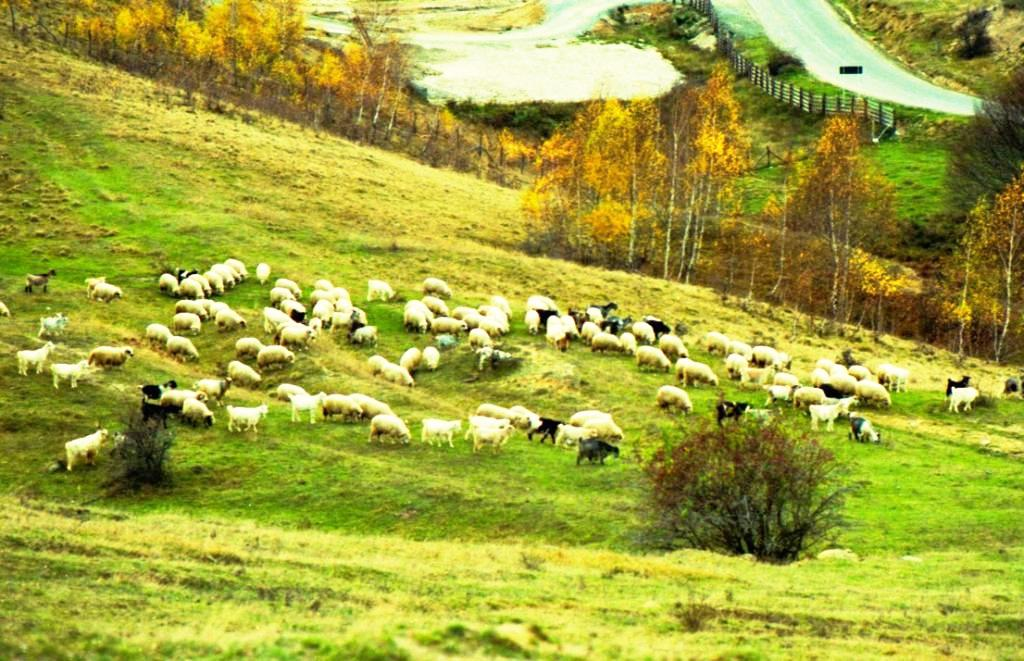Sheep: (60, 428, 112, 468), (368, 414, 414, 446), (49, 359, 92, 391), (226, 403, 269, 435), (16, 341, 54, 377), (470, 423, 517, 452), (285, 390, 325, 424), (158, 388, 208, 415), (577, 417, 623, 446), (420, 418, 463, 449), (675, 357, 716, 389), (321, 394, 364, 423), (86, 345, 133, 371), (655, 384, 692, 416), (353, 395, 397, 421), (853, 380, 891, 410), (375, 361, 414, 389), (257, 345, 296, 373), (180, 397, 215, 428), (193, 377, 231, 405), (227, 360, 262, 390), (636, 346, 671, 375), (876, 363, 911, 392), (946, 385, 979, 413), (166, 336, 200, 363), (37, 312, 69, 340), (659, 334, 688, 363), (234, 336, 264, 362), (172, 312, 203, 336), (91, 282, 124, 304), (366, 279, 396, 302), (146, 323, 172, 349), (422, 277, 452, 299), (704, 331, 730, 356), (400, 347, 421, 375), (420, 346, 439, 372), (158, 273, 179, 295)
